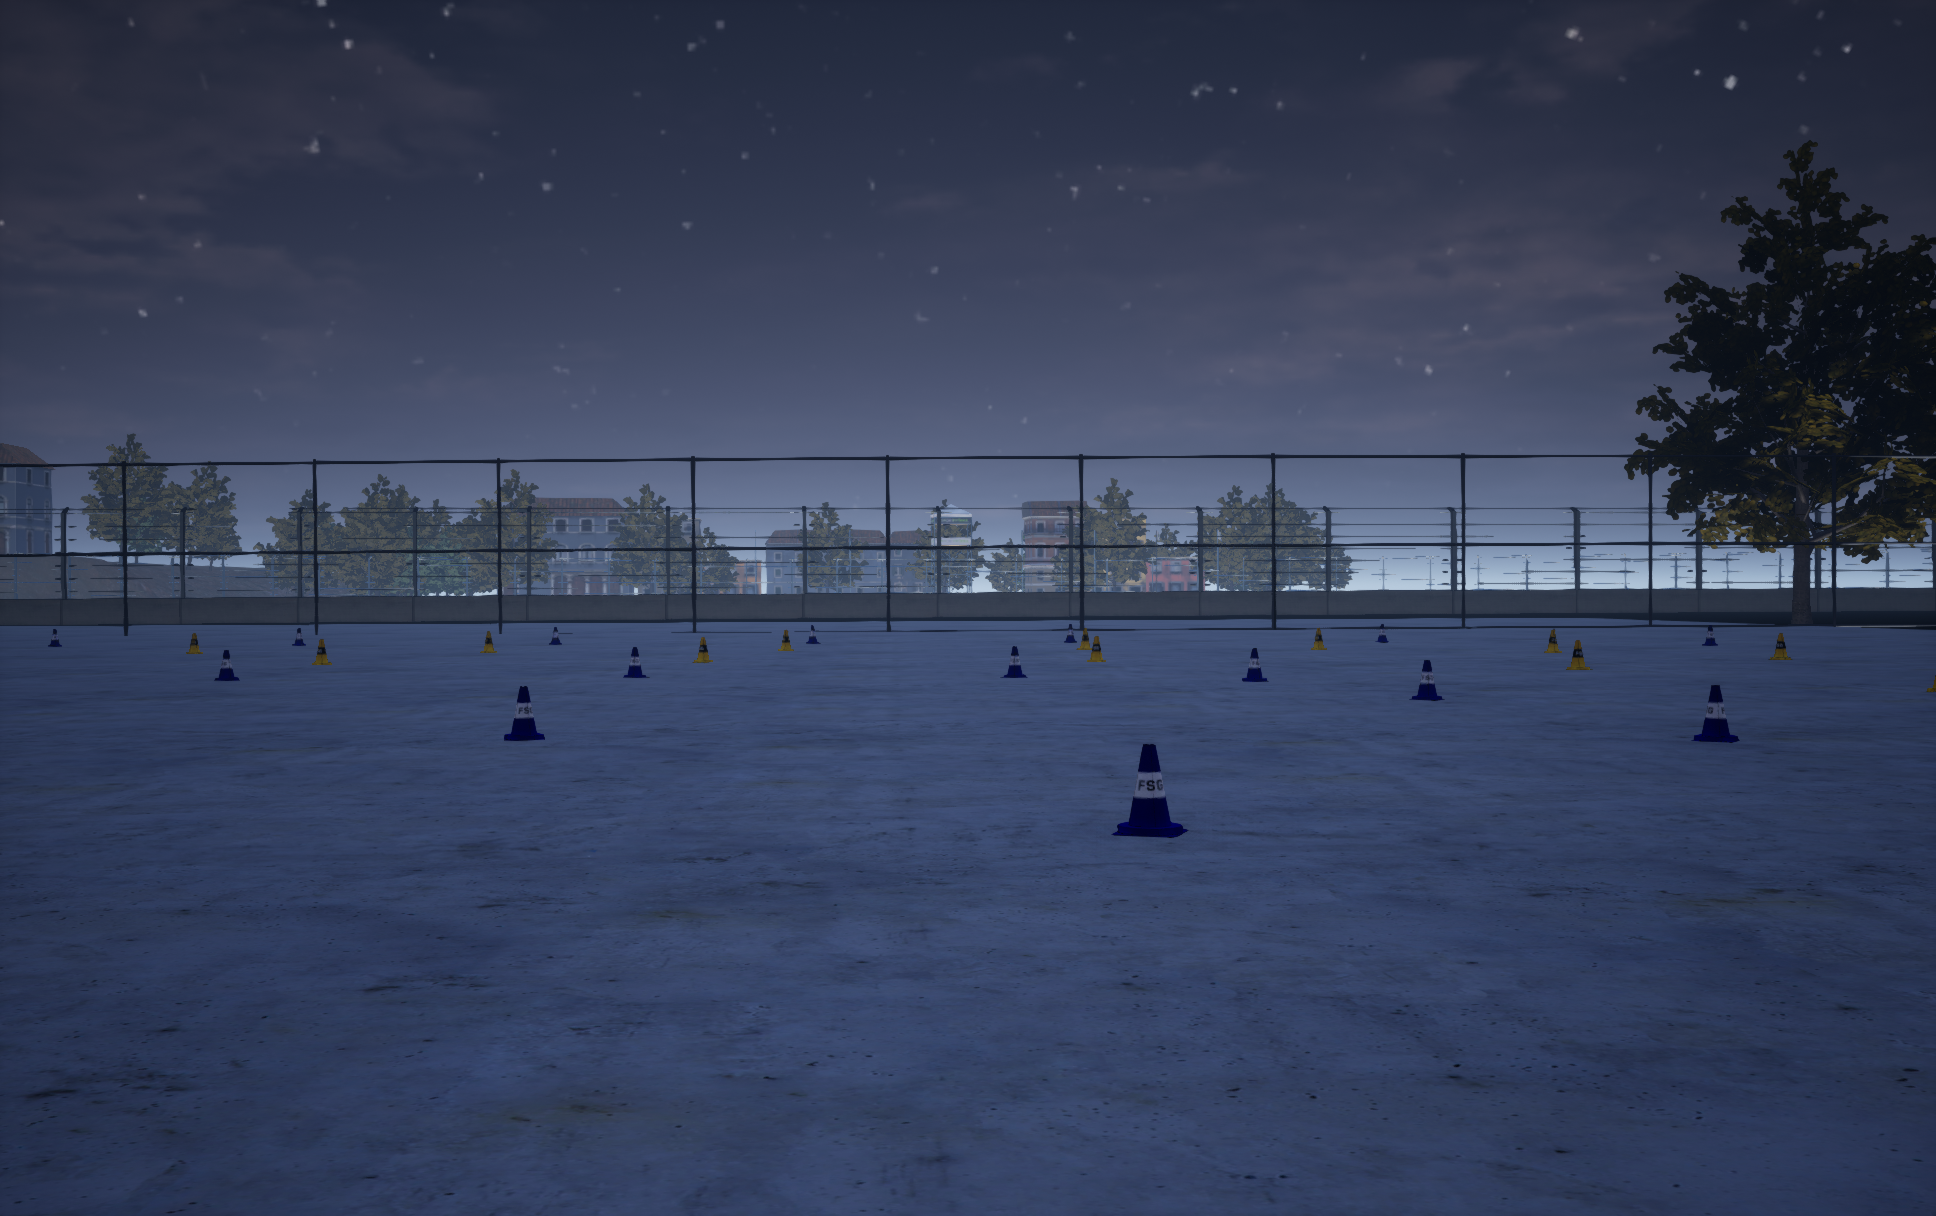blue: (1566, 640, 1591, 670), (1768, 633, 1792, 658), (692, 637, 712, 663), (312, 639, 331, 664), (1087, 636, 1105, 661), (1544, 629, 1561, 651), (1311, 628, 1327, 649), (480, 630, 496, 651), (1076, 628, 1091, 649), (186, 633, 202, 653), (777, 630, 793, 650)
yellow: (1111, 744, 1188, 836), (1691, 685, 1738, 742), (504, 686, 544, 740), (1409, 660, 1444, 700), (1000, 646, 1027, 677), (1243, 649, 1268, 681), (214, 650, 240, 679), (623, 647, 649, 677), (1702, 625, 1717, 644), (805, 625, 820, 643), (1376, 623, 1388, 642), (1065, 623, 1076, 642), (549, 628, 560, 644)
